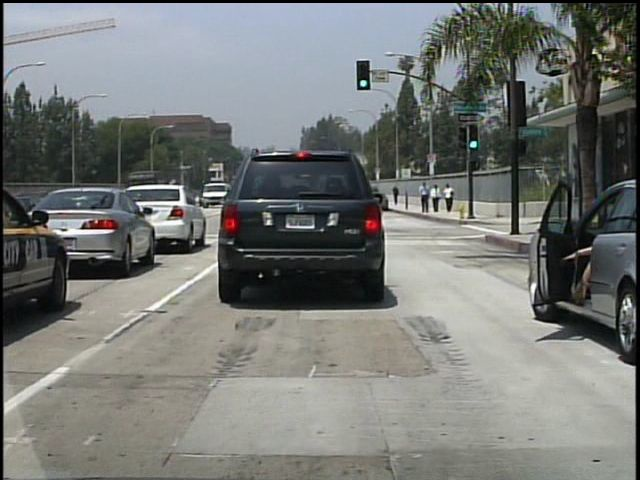person: (557, 201, 615, 330), (419, 180, 431, 214), (444, 183, 457, 213), (432, 182, 444, 213), (392, 185, 402, 206)
